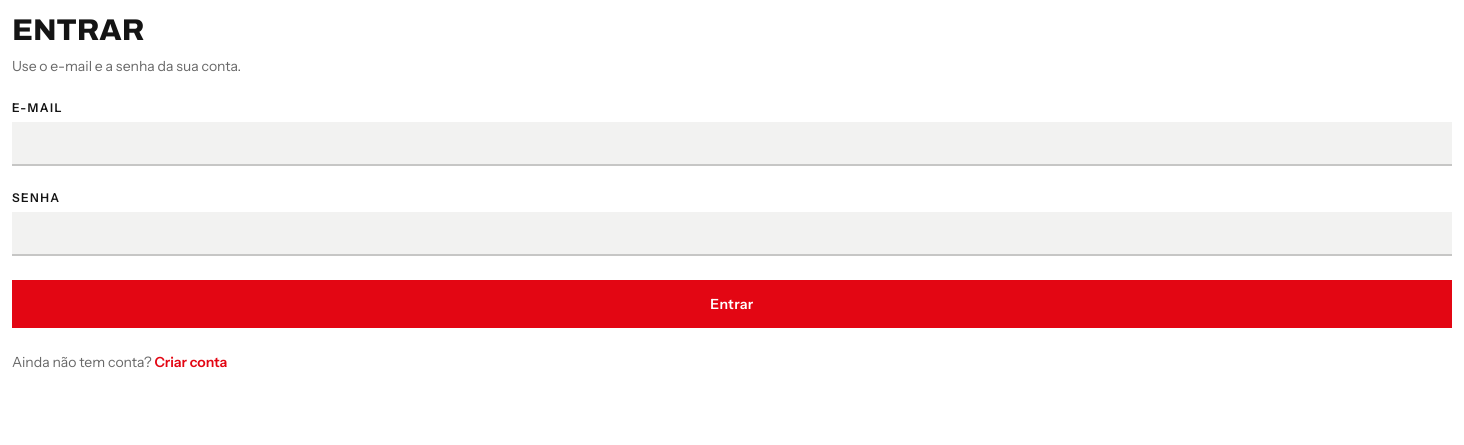
Scenario: LoginForm › shows the server message for INVALID_CREDENTIALS
In the field labelled "E-mail": (732, 144) [12,122,1452,166], type "ana@x.com"
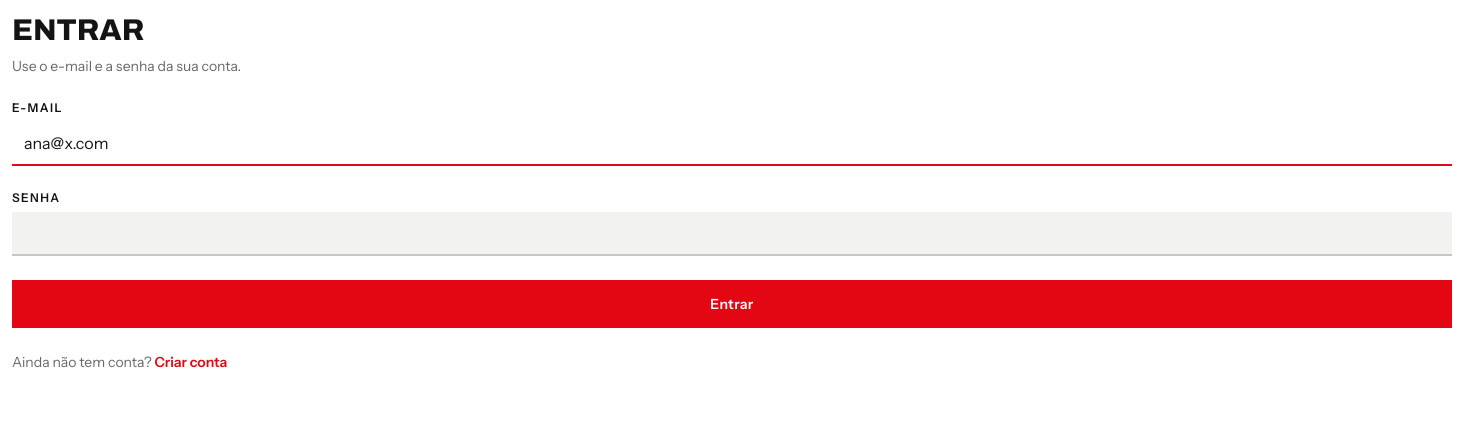
In the password field labelled "Senha": (732, 234) [12,212,1452,256], type "senha-segura"
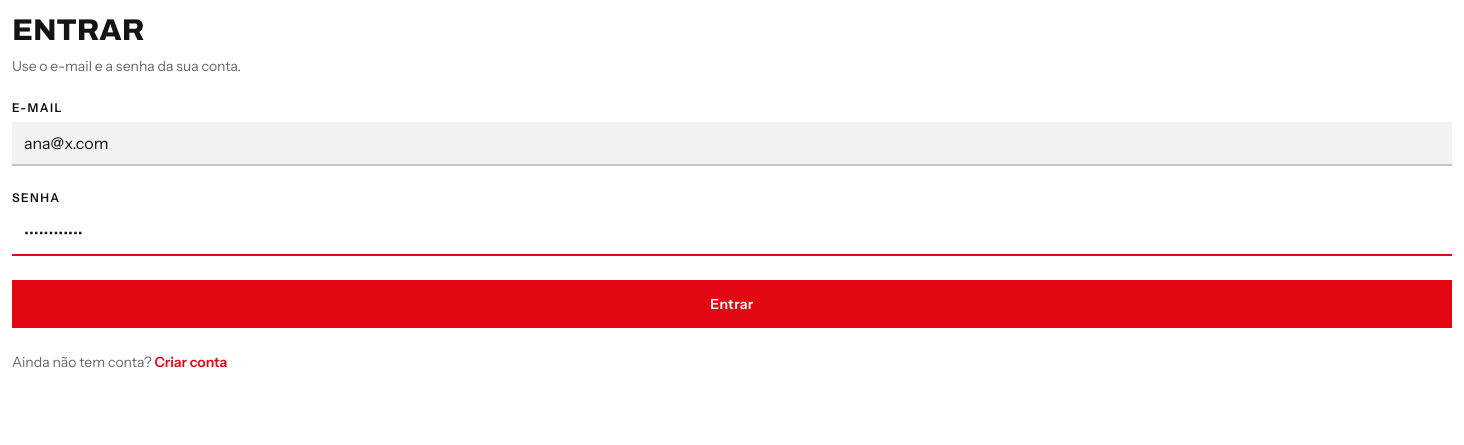
Click the button "Entrar": (732, 304) [12,280,1452,328]
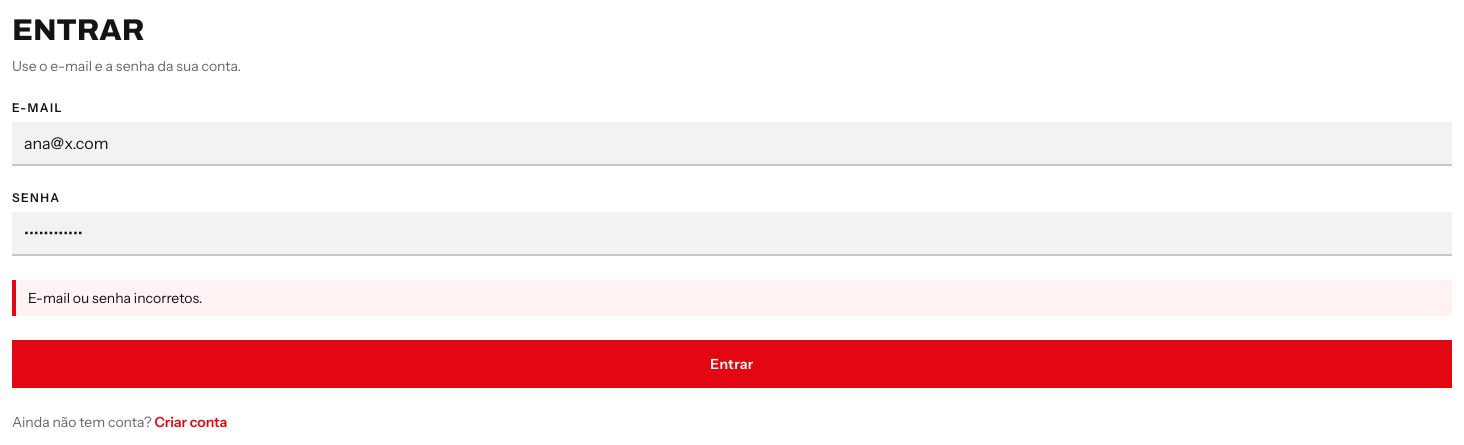
Expected: the message reads "E-mail ou senha incorretos.", [28,289,202,307]
